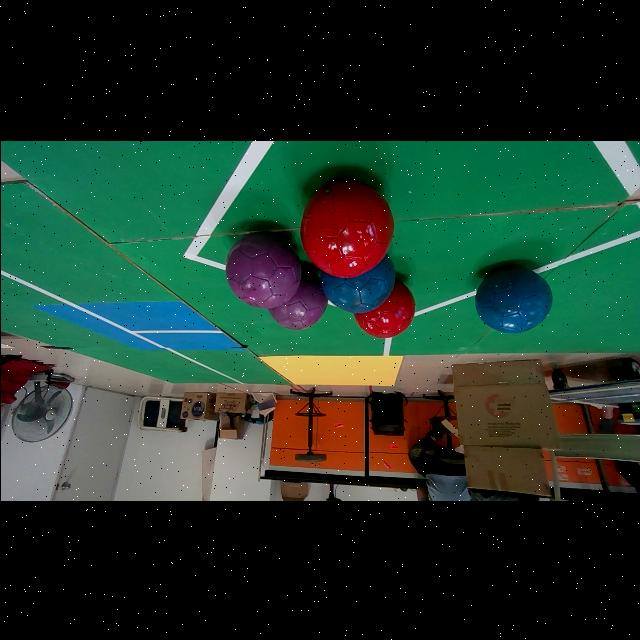B: (473, 265, 551, 332), (320, 255, 394, 313)
P: (224, 231, 301, 308), (268, 267, 326, 329)
R: (300, 180, 393, 277), (354, 278, 414, 336)
